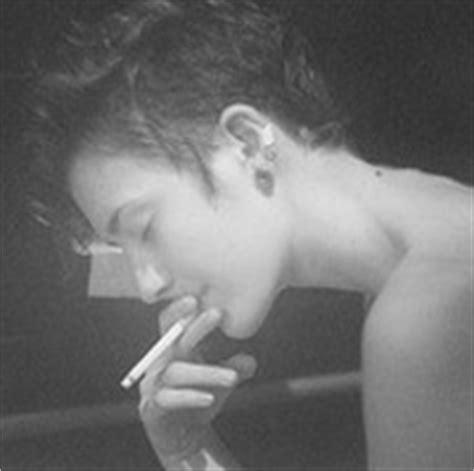smoke: (115, 301, 212, 393)
